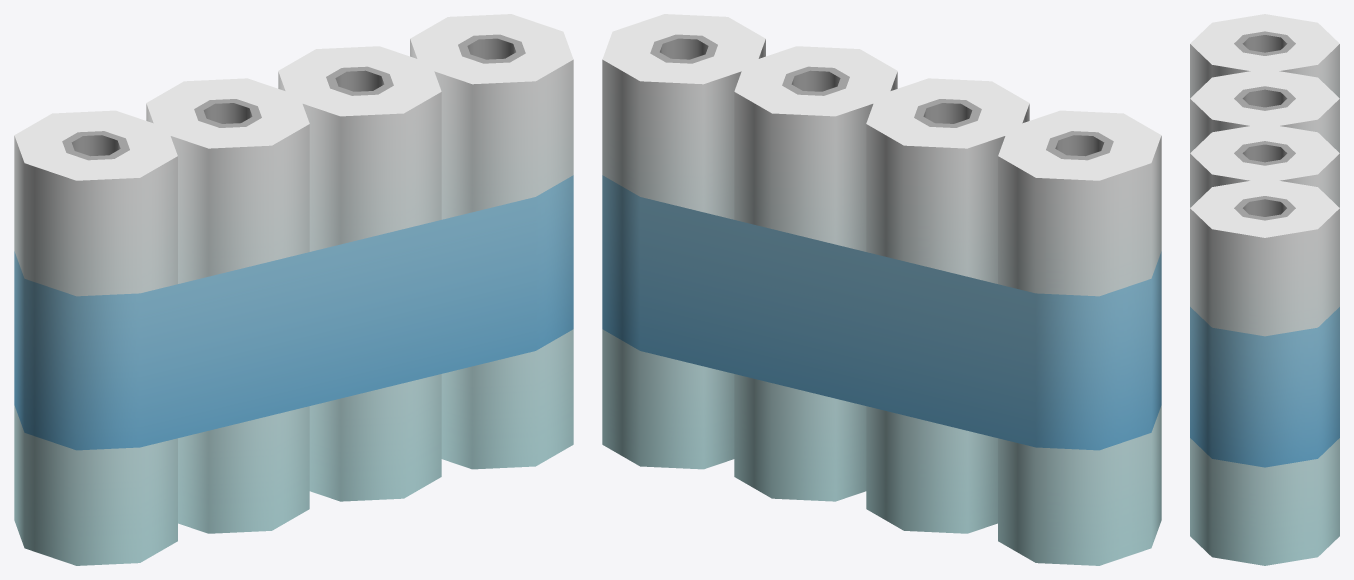
Rendered from roll_kitchen_wrapped.fbx.
3 renders of one model, left to right at view 1: azimuth 30°, elevation 25°; view 2: azimuth 150°, elevation 25°; view 3: azimuth 270°, elevation 25°, orthographic. The views are drawn at different scales.
Parts seen in each view (by area): view 1: roll_kitchen_wrapped; view 2: roll_kitchen_wrapped; view 3: roll_kitchen_wrapped.
Part boxes in pixels (bbox=[...]): roll_kitchen_wrapped: bbox=[14, 14, 573, 565]; roll_kitchen_wrapped: bbox=[602, 14, 1161, 565]; roll_kitchen_wrapped: bbox=[1190, 14, 1339, 565].
Size of the model in its own units: 613 by 419 by 173.
